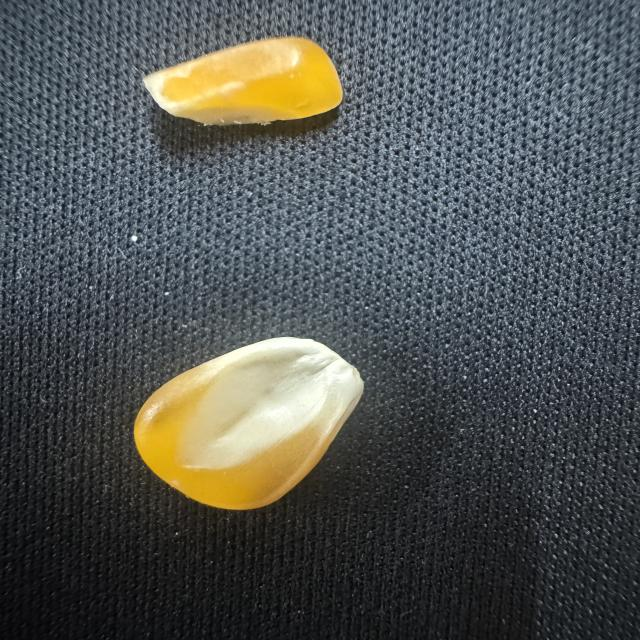Bad-Seed: (134, 31, 348, 130)
Good-Seed: (128, 332, 368, 511)
